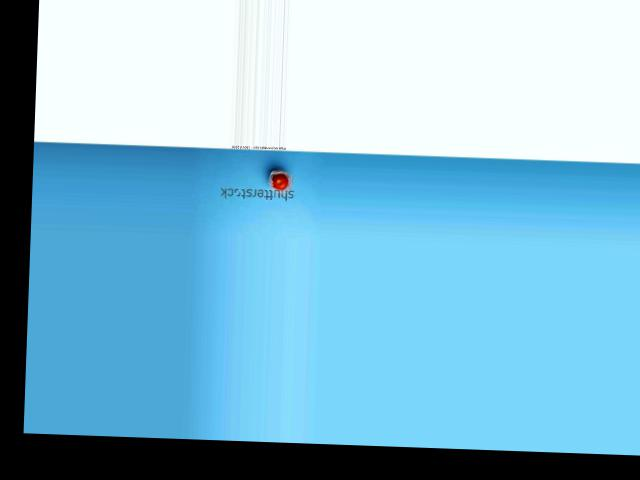tomato: (271, 173, 287, 189)
